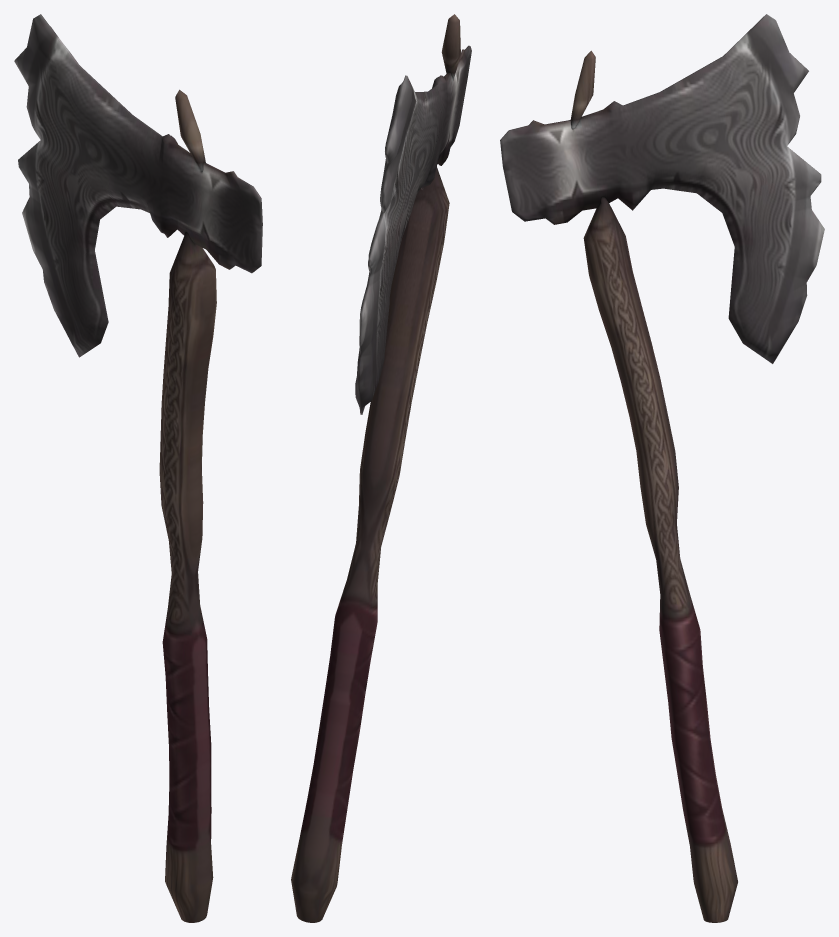
File: axe_rare.glb
The picture shows the model from 3 angles, left to right: view 1: azimuth 30°, elevation 25°; view 2: azimuth 150°, elevation 25°; view 3: azimuth 270°, elevation 25°; orthographic projection. The views are drawn at different scales.
Visible parts, largest first — view 1: axe_rare_grip1; view 2: axe_rare_grip1; view 3: axe_rare_grip1.
Boxes of the visible parts, x1=… form: axe_rare_grip1: x1=14, y1=14, x2=262, y2=922; axe_rare_grip1: x1=291, y1=14, x2=471, y2=922; axe_rare_grip1: x1=500, y1=14, x2=824, y2=922.
Size of the model in its own units: 0.1242 by 0.7411 by 0.257.
Materials: 1 (1 with a texture image).
